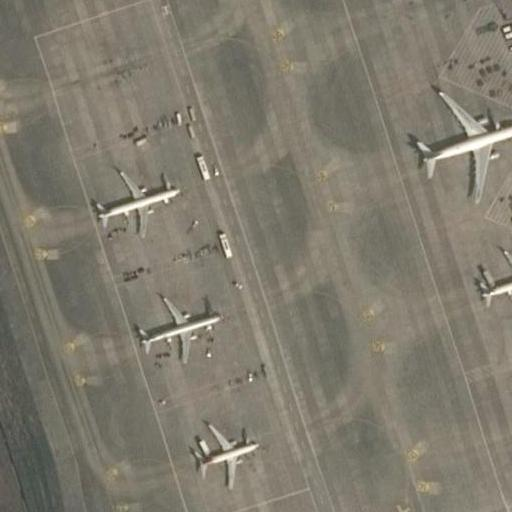Aircraft: (404, 82, 512, 188), (80, 162, 179, 235), (166, 421, 269, 487), (140, 294, 226, 364), (472, 246, 512, 317)
